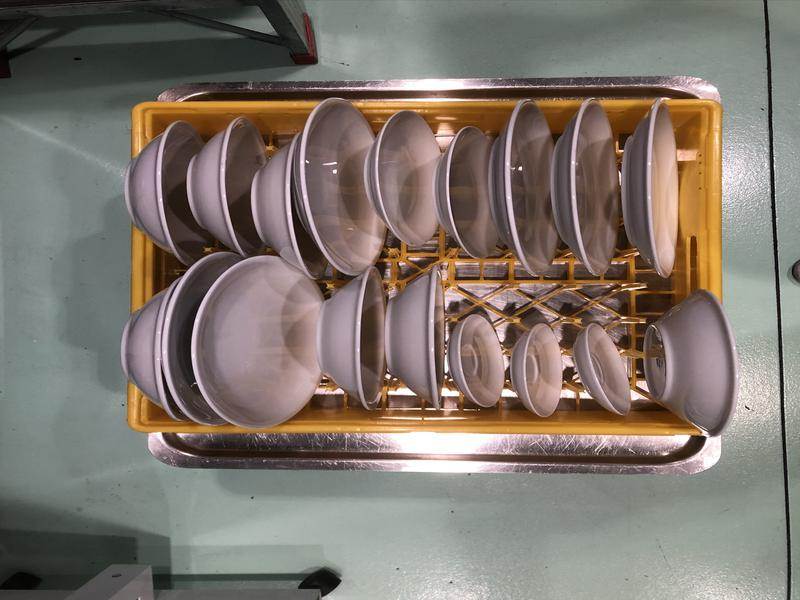Dish: (191, 253, 324, 428), (297, 97, 392, 276), (646, 290, 740, 435), (164, 251, 235, 427), (251, 132, 333, 282), (491, 97, 556, 279), (122, 120, 202, 266), (117, 278, 197, 423), (182, 118, 263, 261), (551, 97, 615, 277), (620, 96, 681, 278), (363, 111, 444, 245), (320, 266, 387, 412), (384, 263, 447, 409), (436, 126, 504, 261), (574, 320, 640, 419), (447, 314, 513, 412), (513, 321, 566, 418)
